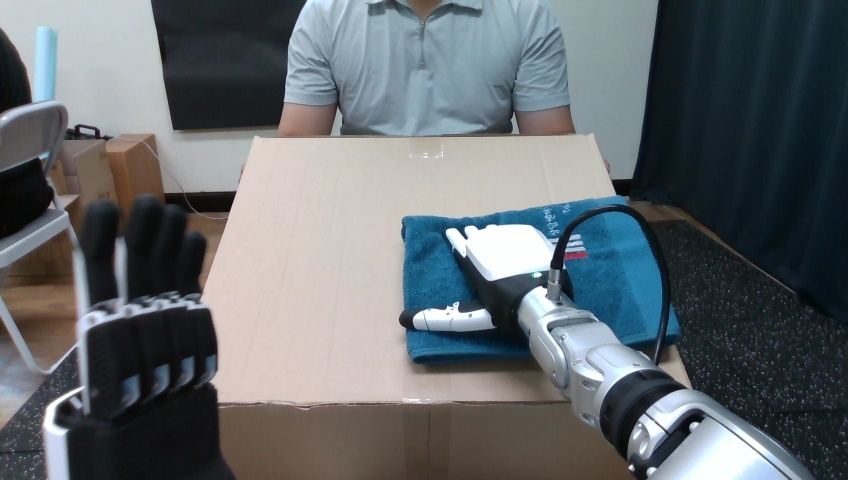left robot hand: (399, 203, 811, 479), (563, 212, 662, 359)
